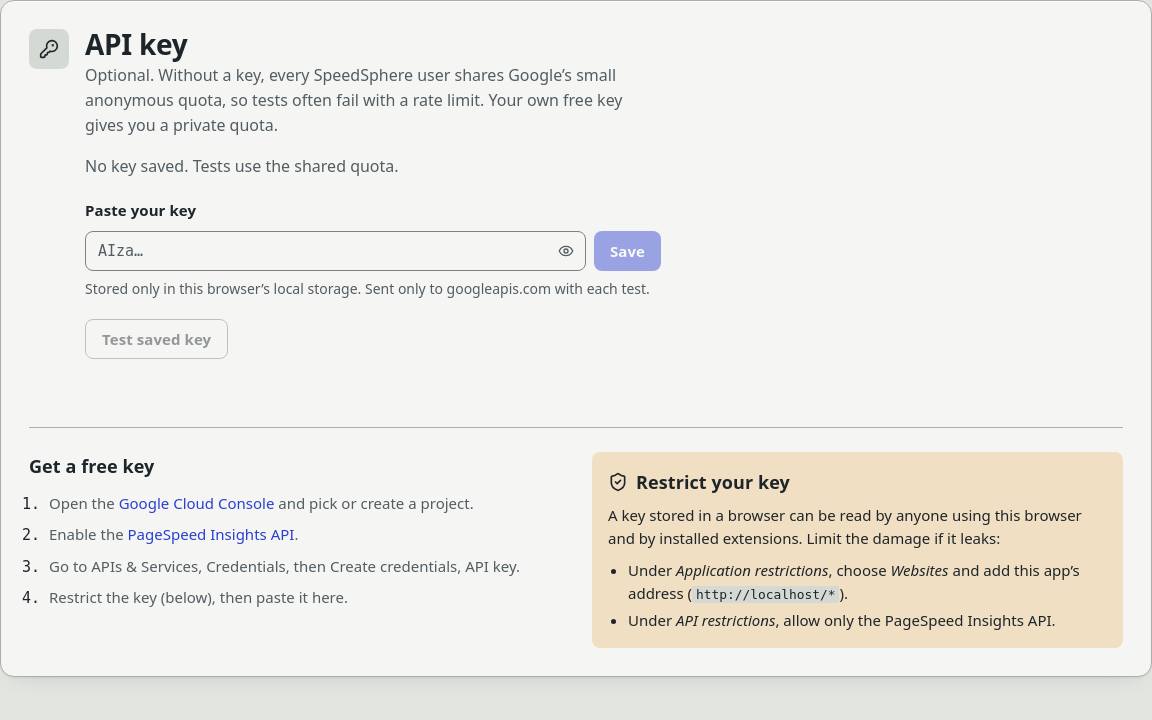
Test case: ApiKeyPanel › reports an invalid key from the test button
The image size is (1152, 720).
Type "bad-key" into the password field labelled "Paste your key" at (336, 251), box [85,231,586,271]
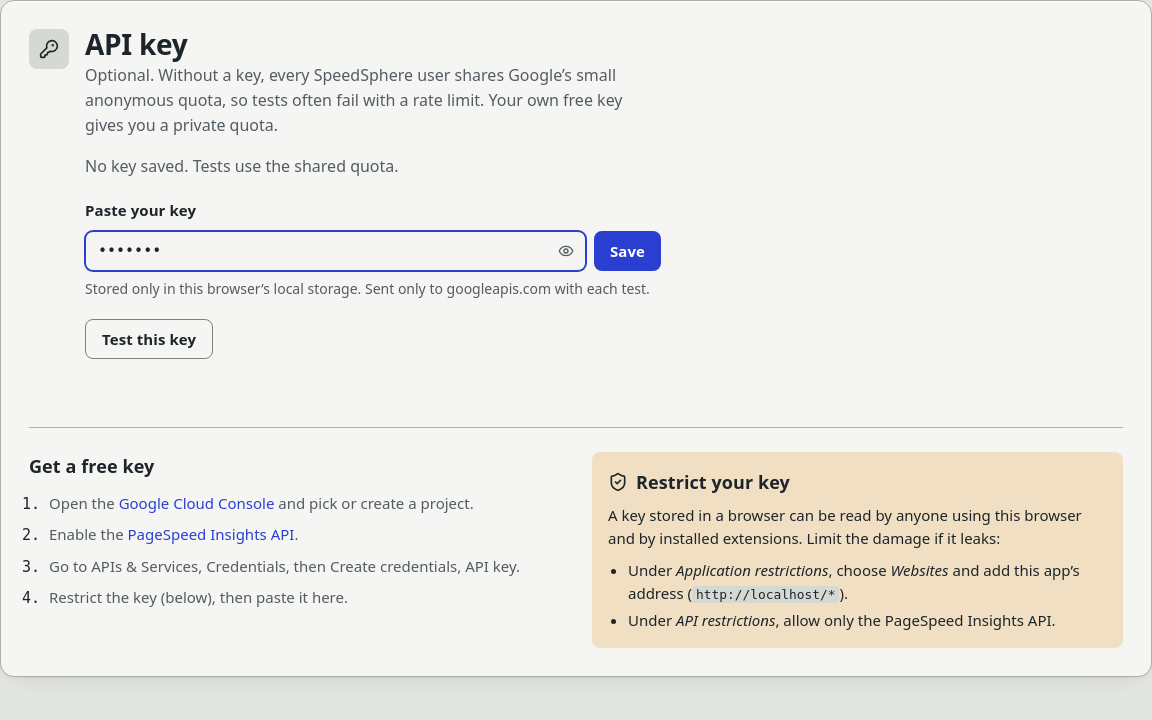
Click the button "Test this key" at (149, 339), box [85,319,213,359]
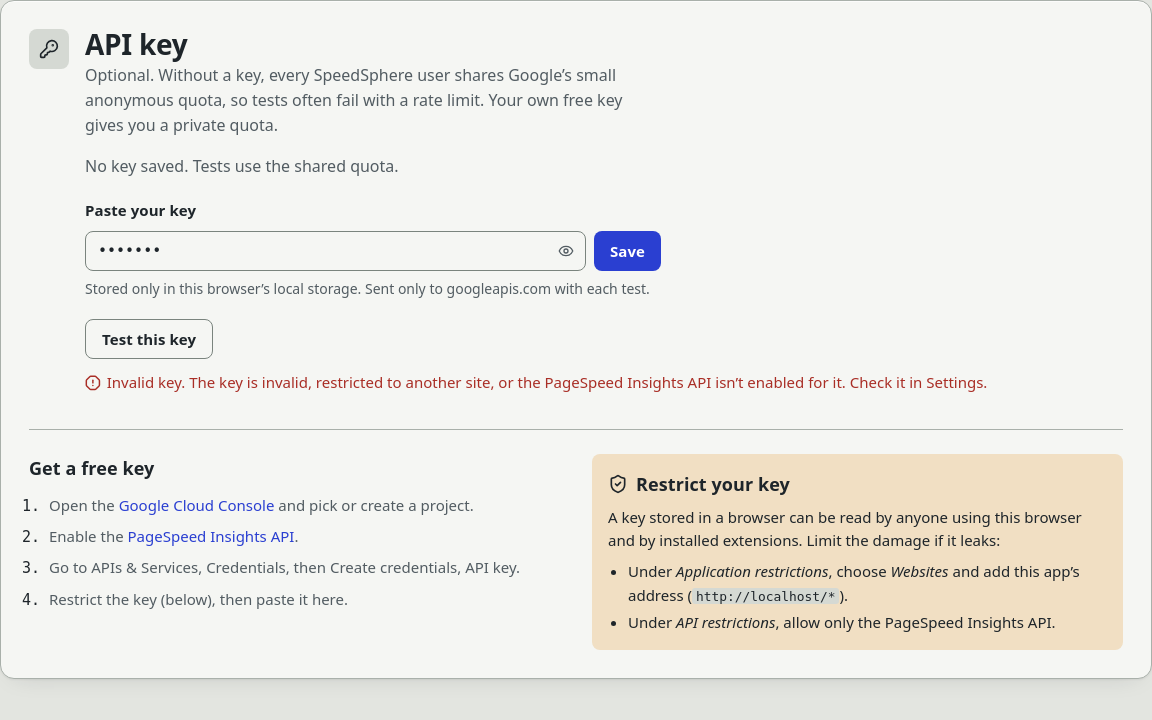
Expected: the text "Invalid key" is shown, [107,372,987,392]
